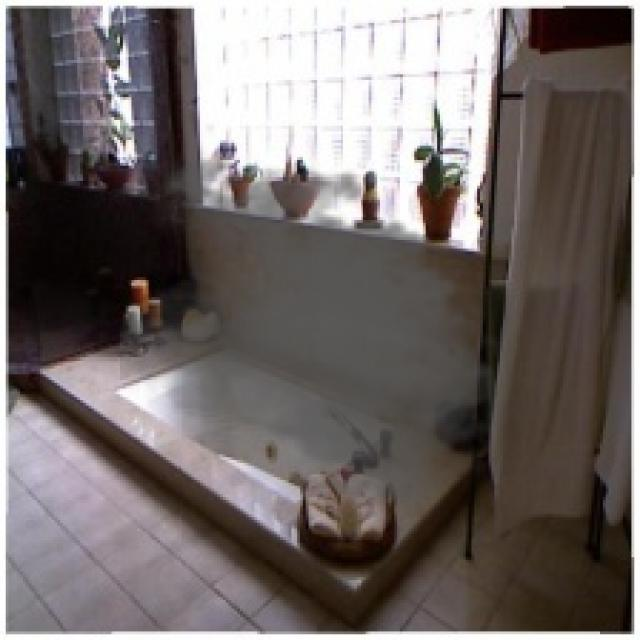smoke: (120, 146, 517, 514)
